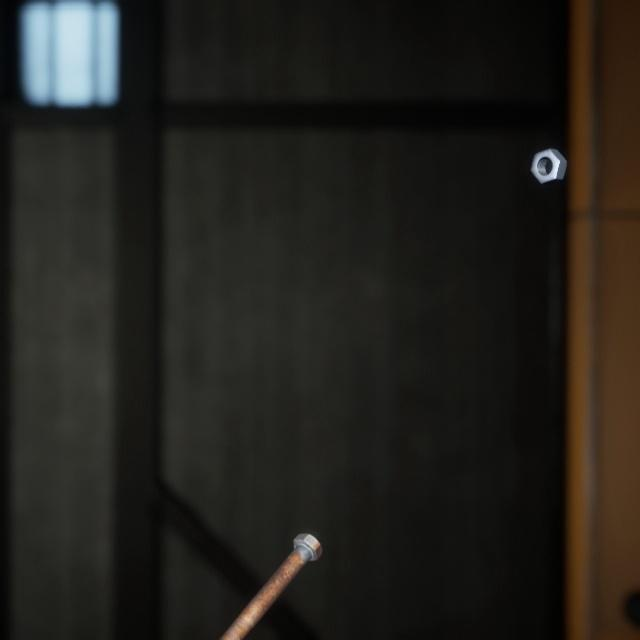bolt: (203, 505, 326, 640)
nut: (526, 130, 571, 175)
